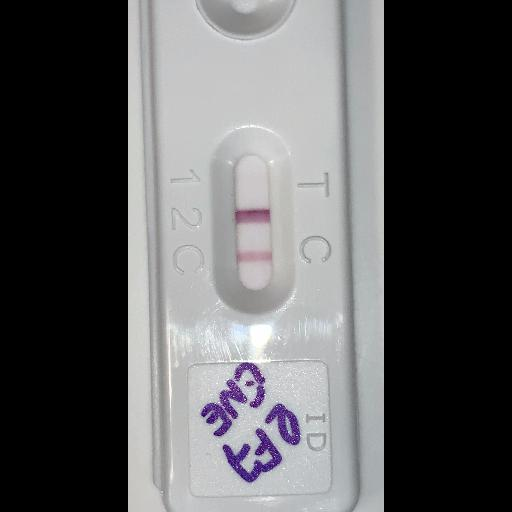Pos: (148, 0, 360, 511)
